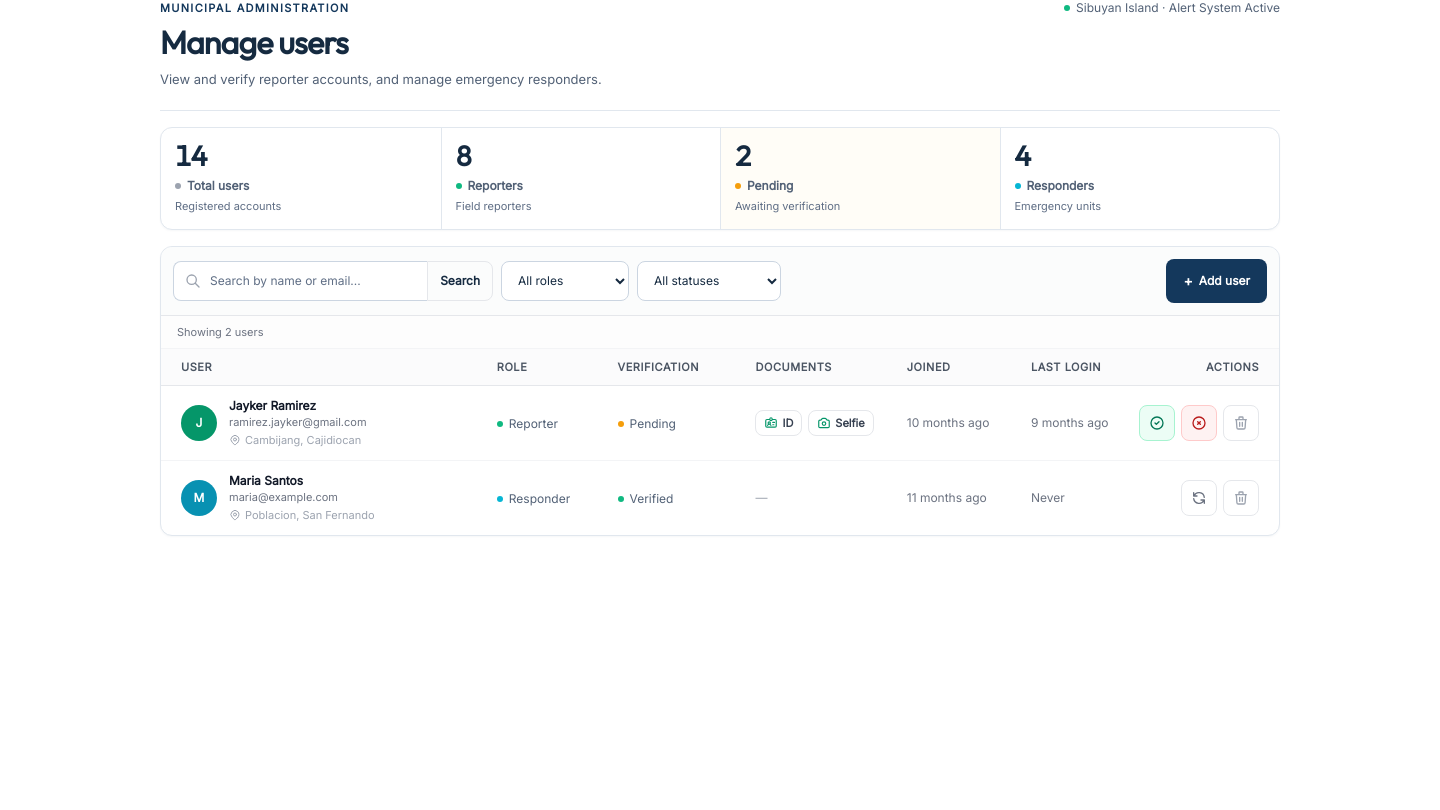
it: AdminUsersPage › add responder › surfaces the duplicate-email message the server sent
Click the button with aria-label "Add a user account": click(1217, 281) [1166,259,1267,303]
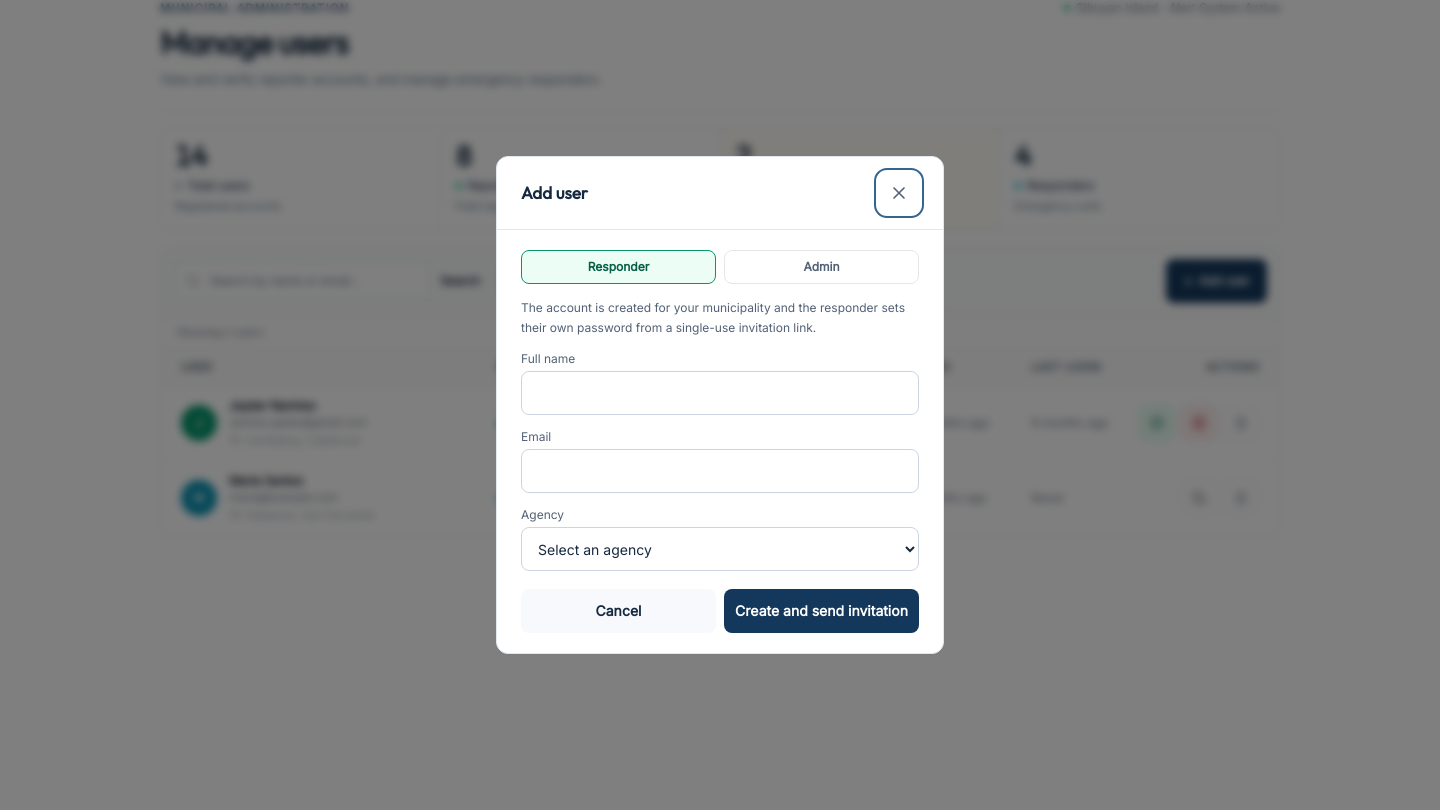
Check: the heading "Add user" is shown, box [521,181,588,205]
In the field labelled "Full name": (720, 393) [521,371,919,415], type "Juan Dela Cruz"
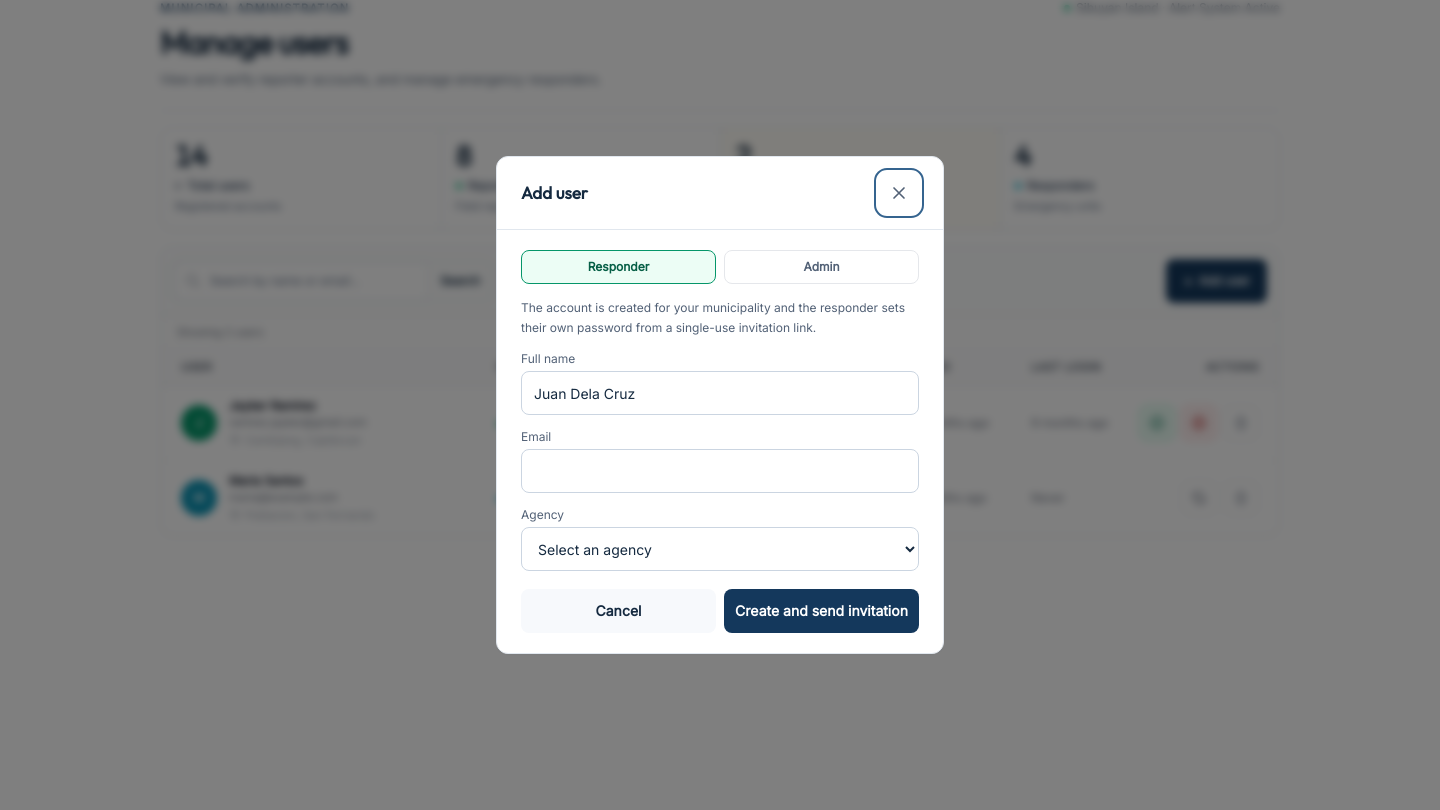
In the field labelled "Email": (720, 471) [521,449,919,493], type "juan@example.com"
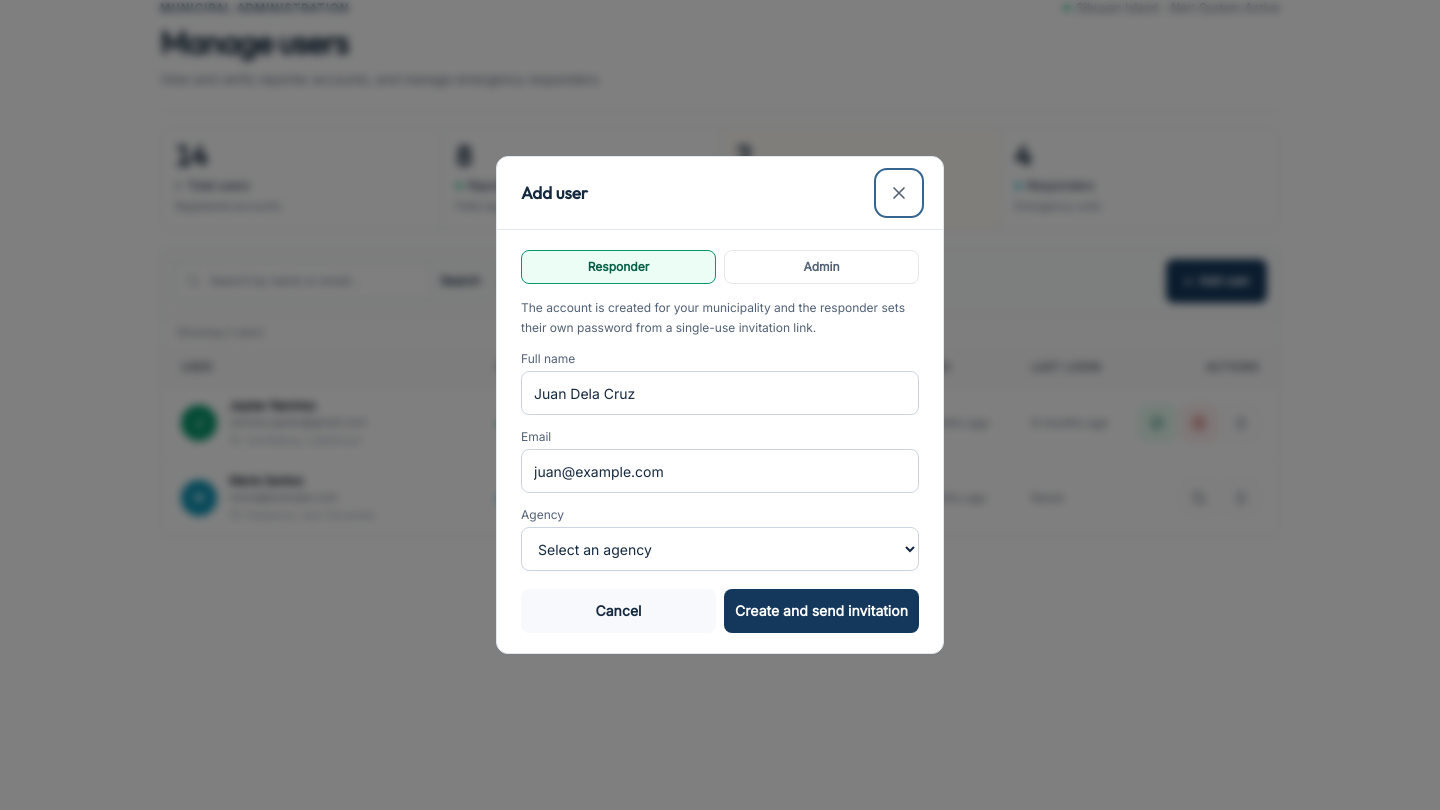
Select "MDRRMO" in the dropdown labelled "Agency": (720, 549) [521,527,919,571]
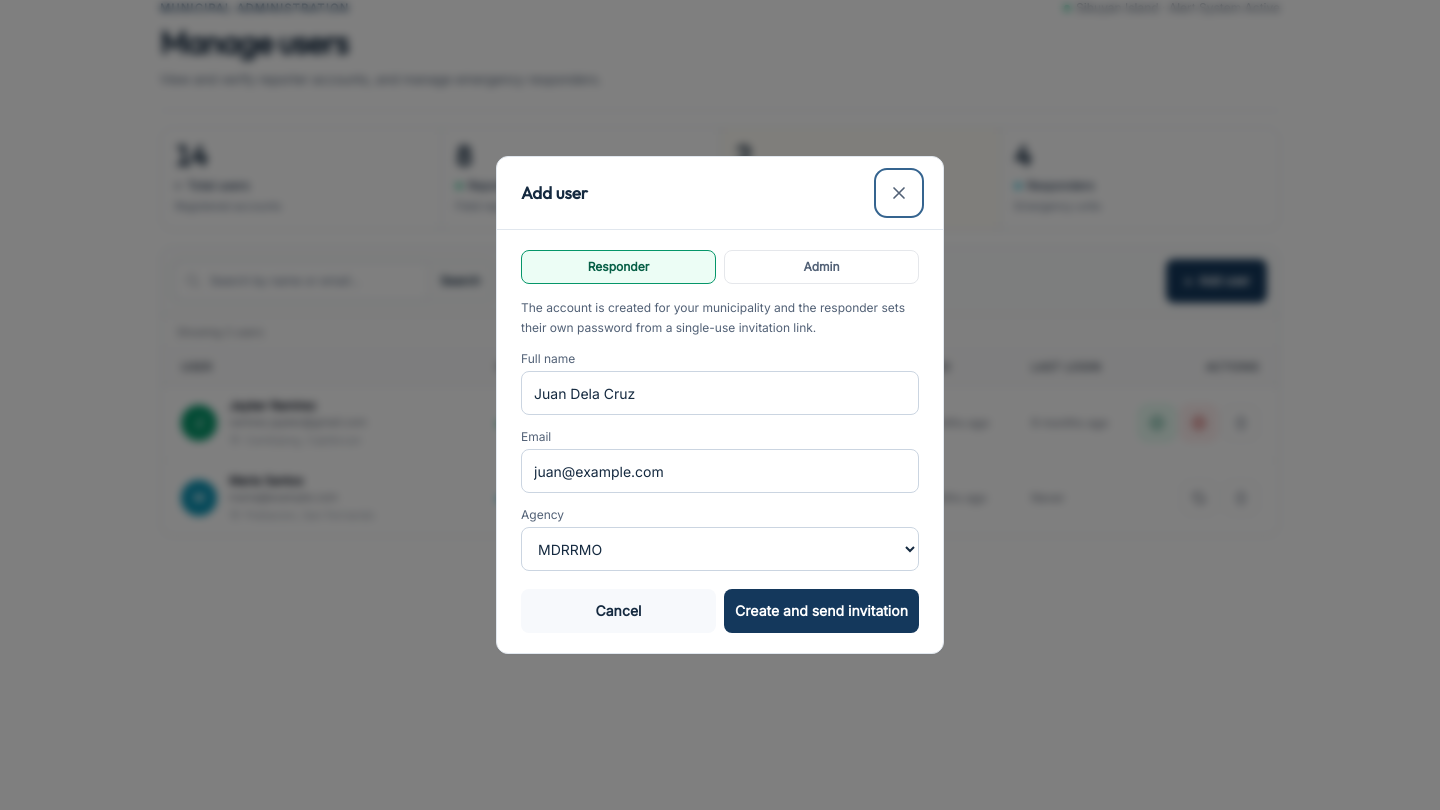
Click the button "Create and send invitation": click(822, 611) [724,589,919,633]
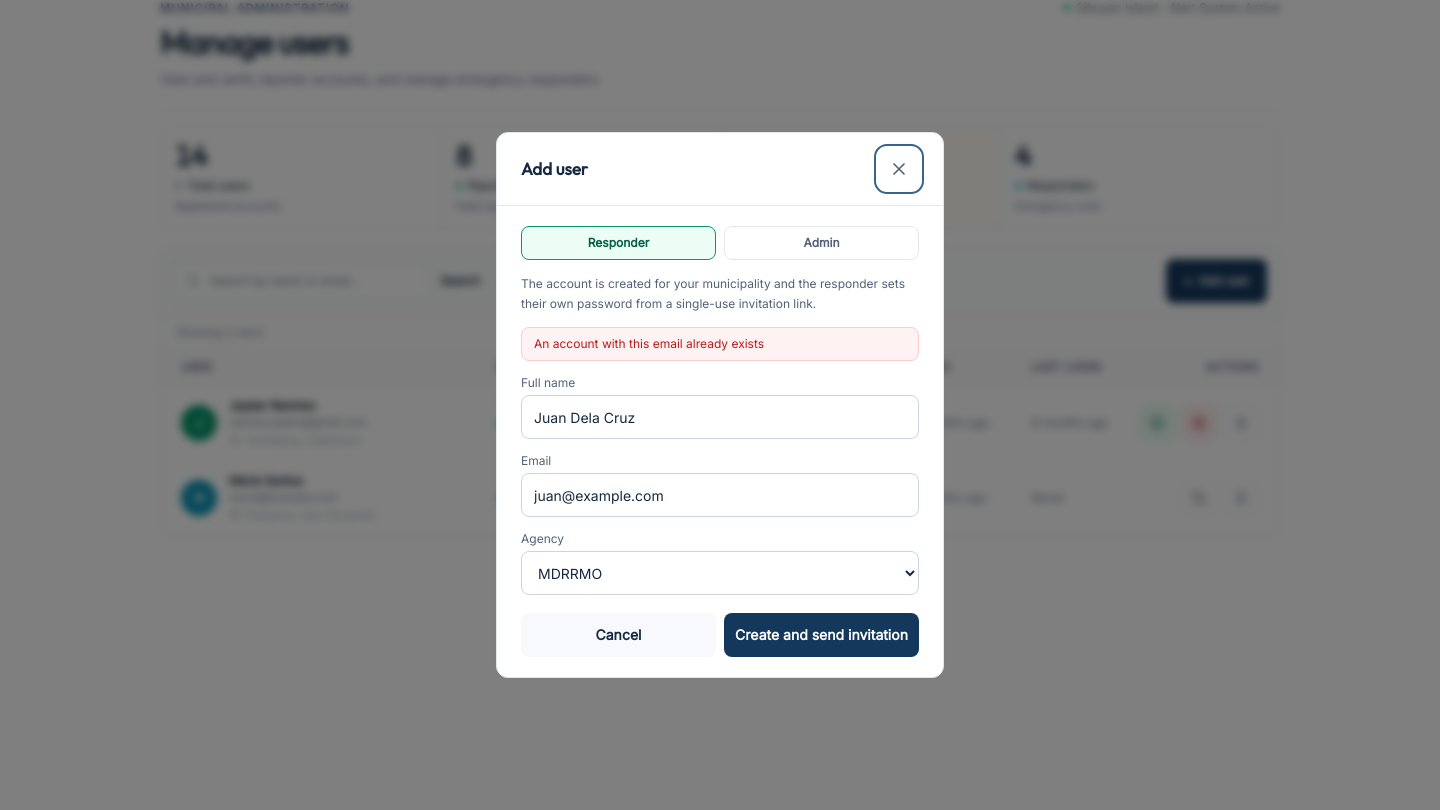
Check: the message reads "An account with this email already exists", box [534,336,764,351]
